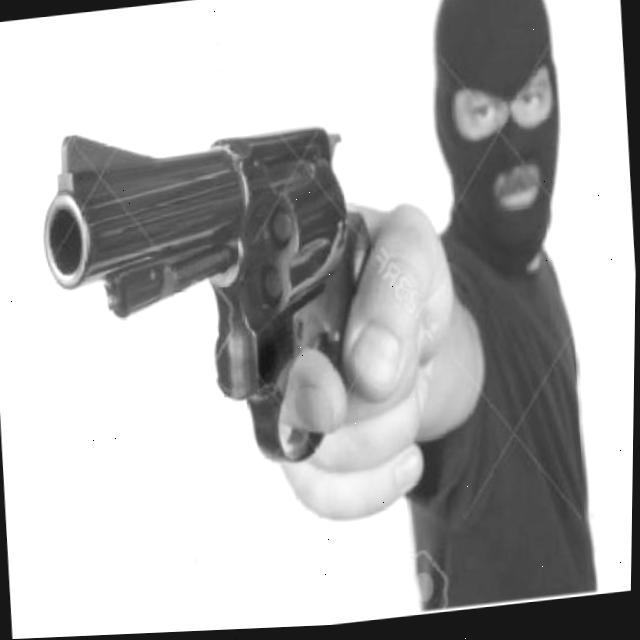gun: (22, 106, 404, 507)
